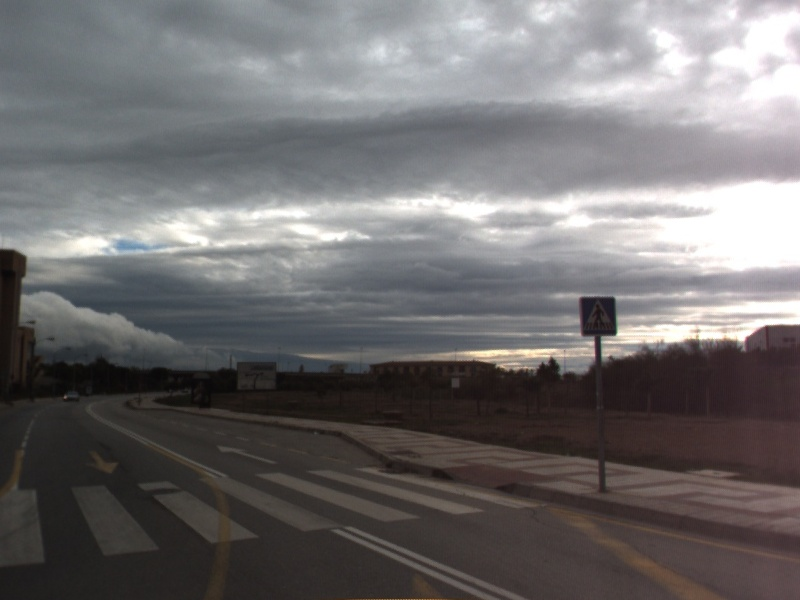STRAIGHT: (214, 443, 280, 466)
